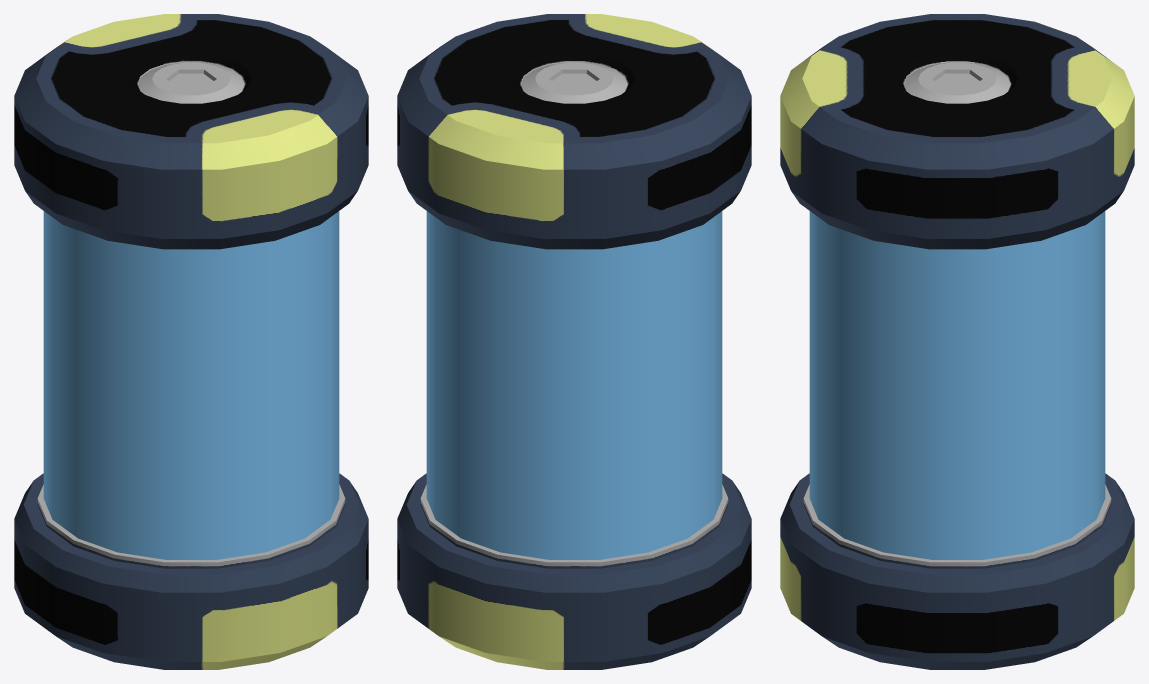
File: SciFi-Display-Can.fbx
3 views of the same model, side by side, from view 1: azimuth 30°, elevation 25°; view 2: azimuth 150°, elevation 25°; view 3: azimuth 270°, elevation 25° (orthographic).
Parts seen in each view (by area): view 1: GlassScifiCan; view 2: GlassScifiCan; view 3: GlassScifiCan.
Boxes of the visible parts, box(x1,y1,x2,y2) form: GlassScifiCan: box(14, 14, 368, 669); GlassScifiCan: box(397, 14, 751, 669); GlassScifiCan: box(780, 14, 1134, 669).
Size of the model in its own units: 288 by 479 by 292.
